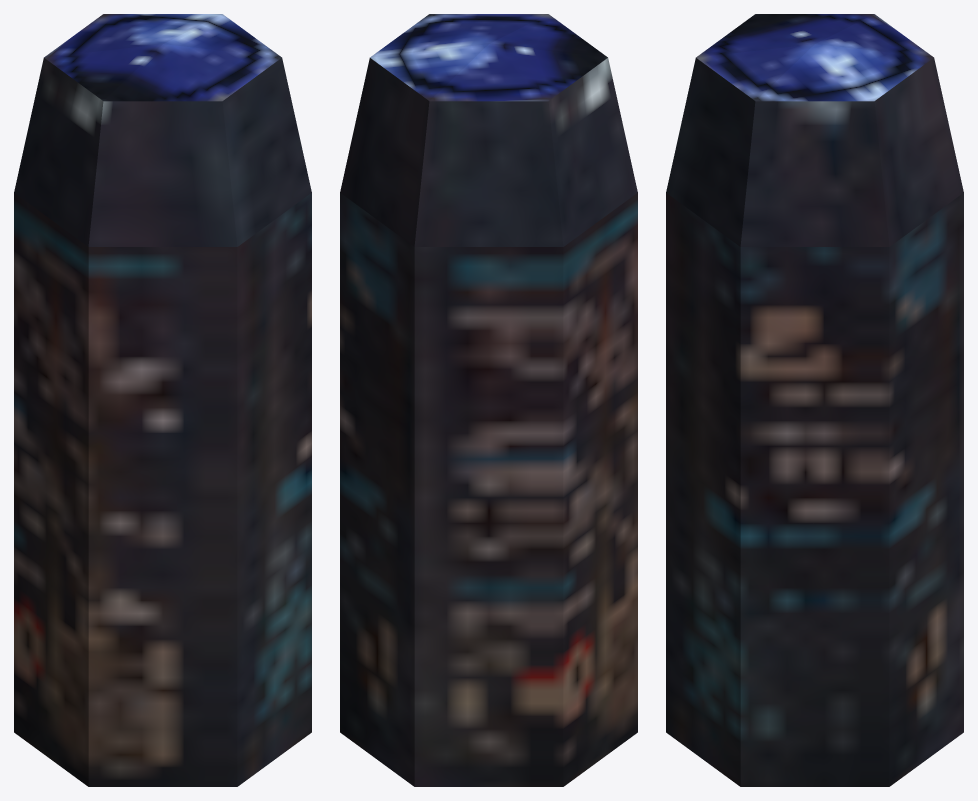
The model's file is Deodorant01.obj.
3 renders of one model, left to right at view 1: azimuth 30°, elevation 25°; view 2: azimuth 150°, elevation 25°; view 3: azimuth 270°, elevation 25°, orthographic.
Visible parts, largest first — view 1: Deodorant01; view 2: Deodorant01; view 3: Deodorant01.
Boxes of the visible parts, x1=… form: Deodorant01: x1=14, y1=14, x2=311, y2=786; Deodorant01: x1=340, y1=14, x2=637, y2=786; Deodorant01: x1=666, y1=14, x2=963, y2=786.
Size of the model in its own units: 0.1264 by 0.3723 by 0.146.
